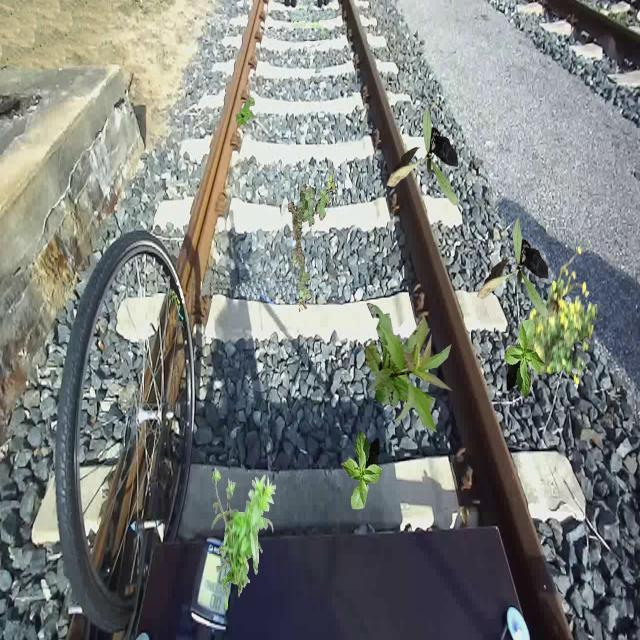Plant: (365, 303, 453, 433), (523, 246, 598, 386), (212, 467, 276, 610), (477, 218, 548, 318), (387, 106, 458, 205), (288, 174, 336, 312), (504, 320, 546, 400), (340, 430, 382, 510), (236, 97, 256, 130)
